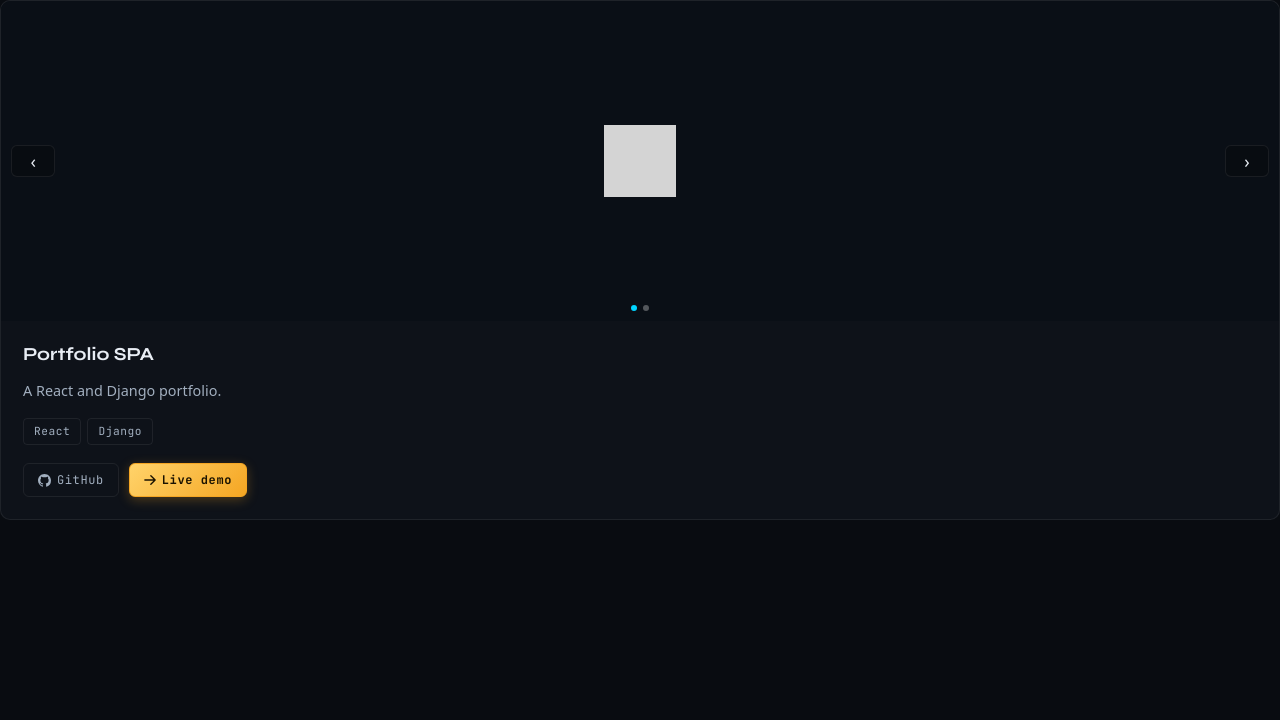
Test case: ProjectCard › switches gallery screenshots and opens a keyboard-controlled lightbox
Click the button named "Next" at (1247, 161), box [1225,145,1269,177]
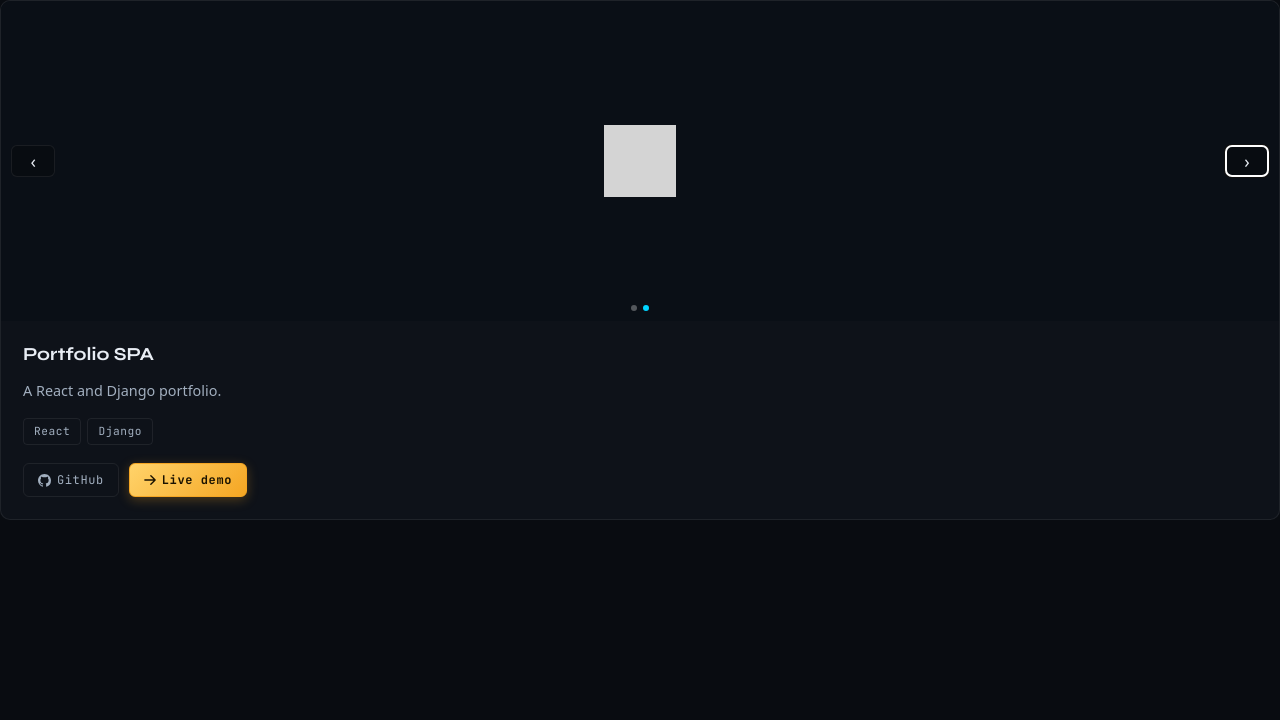
Click the button named "open portfolio spa screenshot preview" at (78, 161), box [1,1,1279,321]
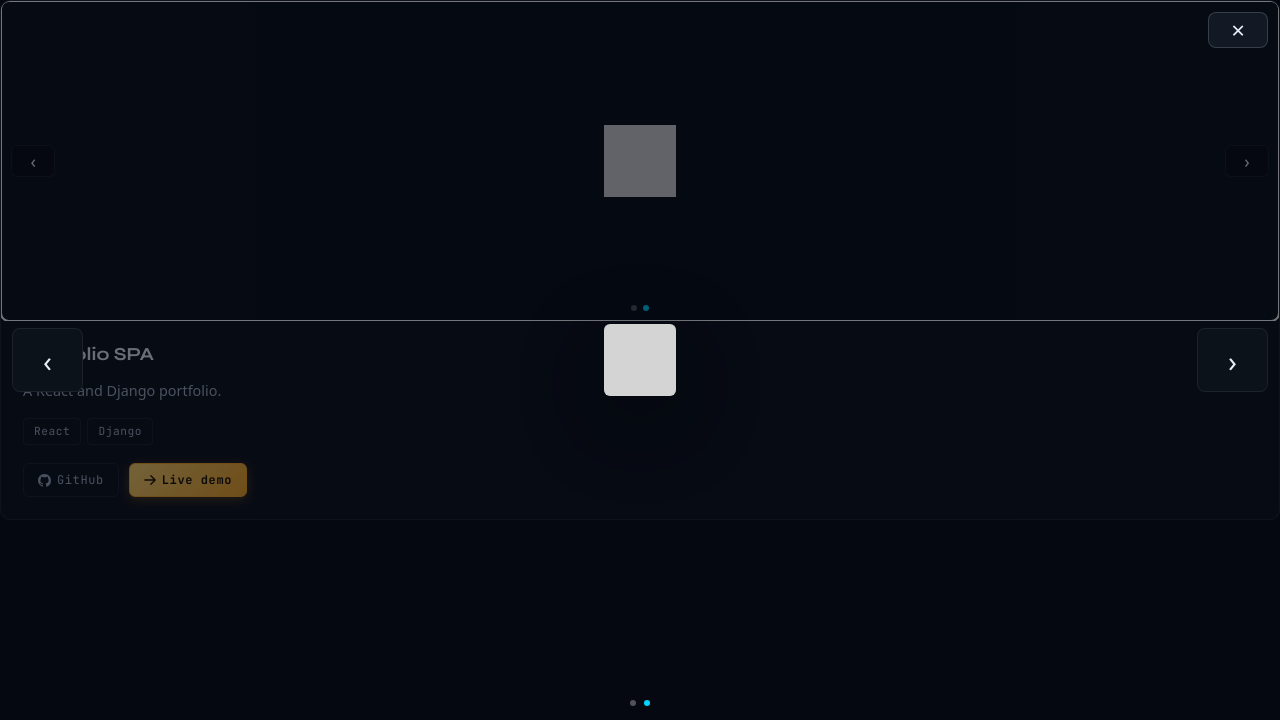
Press ArrowLeft
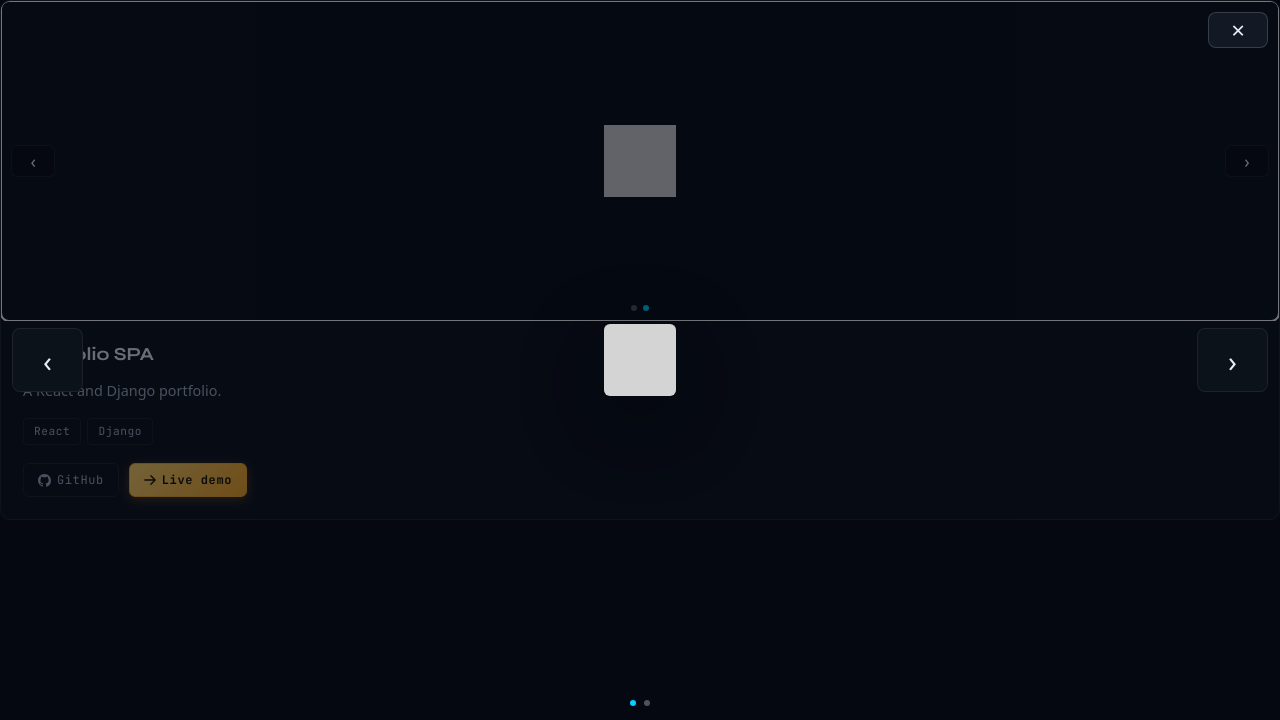
Press Escape
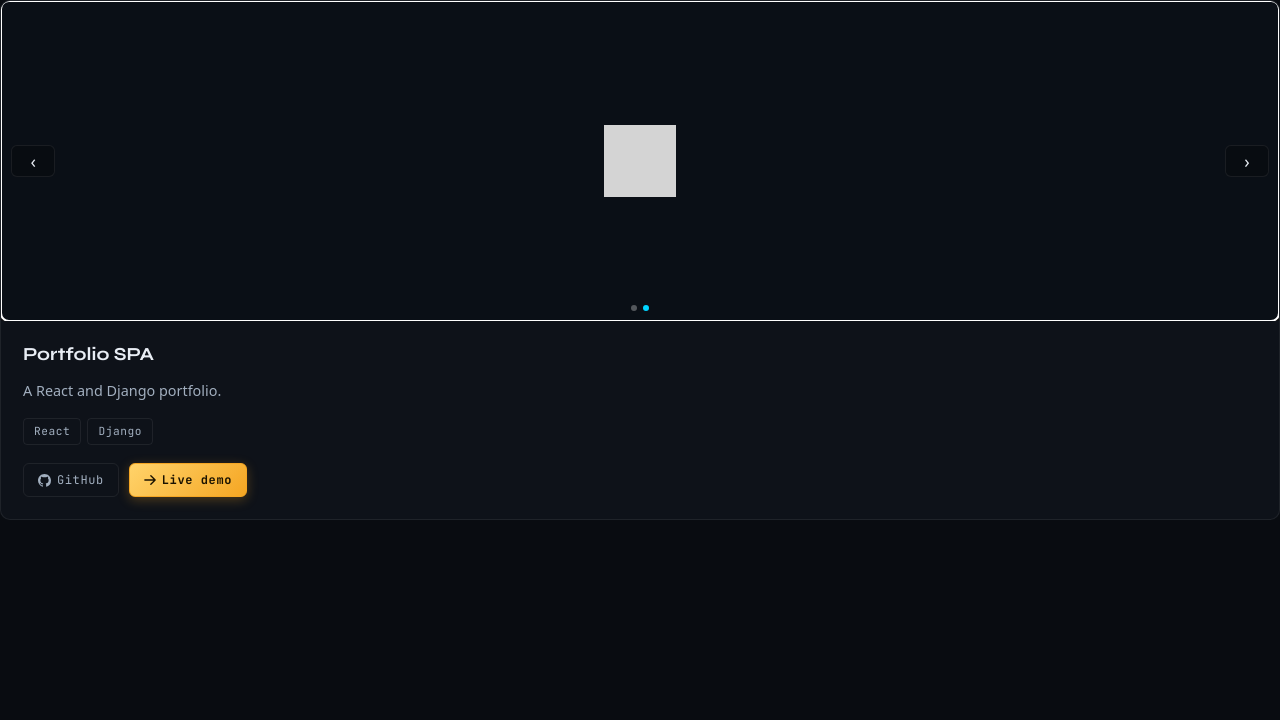
Check: the dialog is gone
